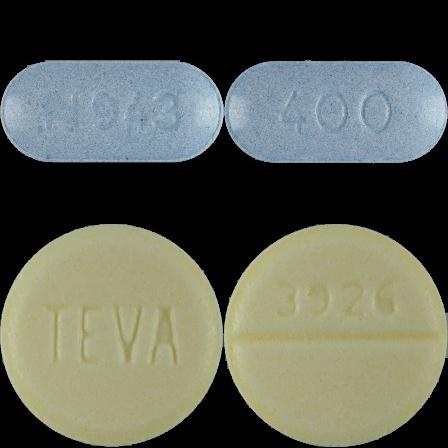12634-520: (0, 0, 224, 224)
